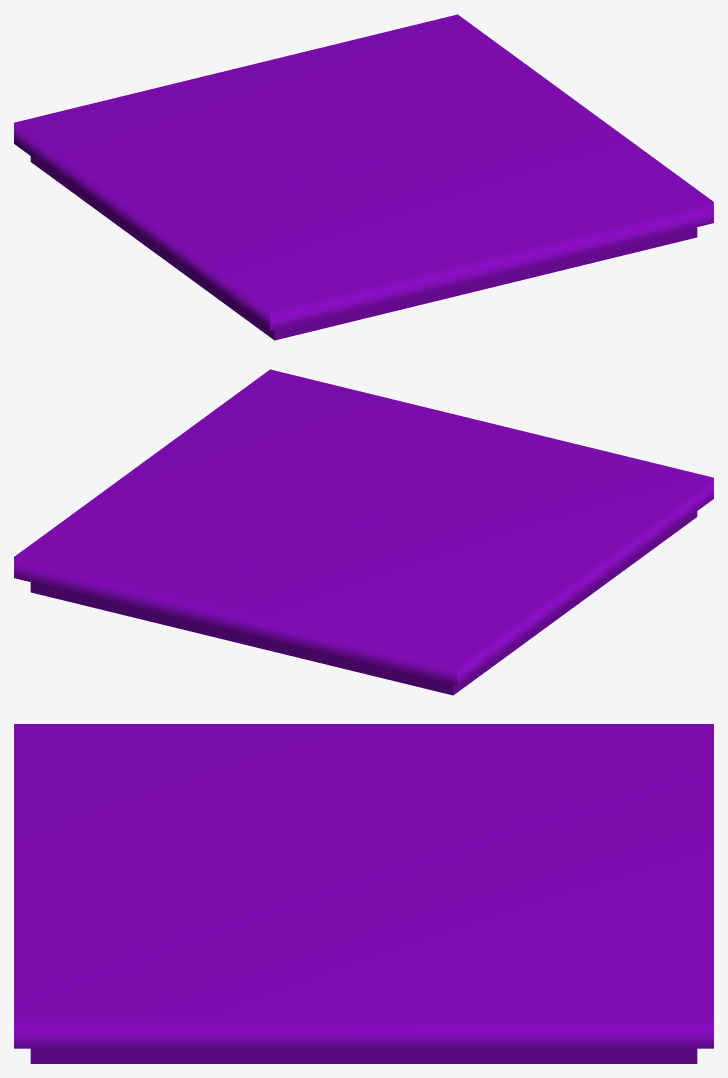
The model's file is Building_Small_Roof_001.fbx.
3 views of the same model, one above another, from view 1: azimuth 30°, elevation 25°; view 2: azimuth 150°, elevation 25°; view 3: azimuth 270°, elevation 25° (orthographic). The views are drawn at different scales.
Parts seen in each view (by area): view 1: Building_Small_Roof_001; view 2: Building_Small_Roof_001; view 3: Building_Small_Roof_001.
Boxes of the visible parts, box(x1,y1,x2,y2) form: Building_Small_Roof_001: box(14, 14, 713, 340); Building_Small_Roof_001: box(14, 369, 713, 695); Building_Small_Roof_001: box(14, 724, 713, 1063).
Size of the model in its own units: 5376 by 432 by 5376.
